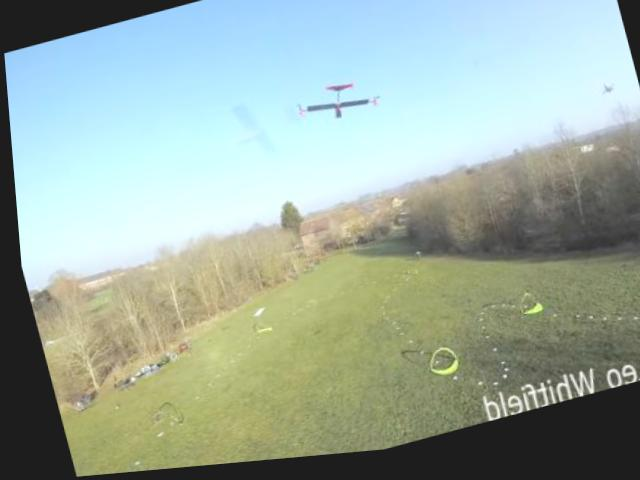uav: (279, 64, 388, 147)
